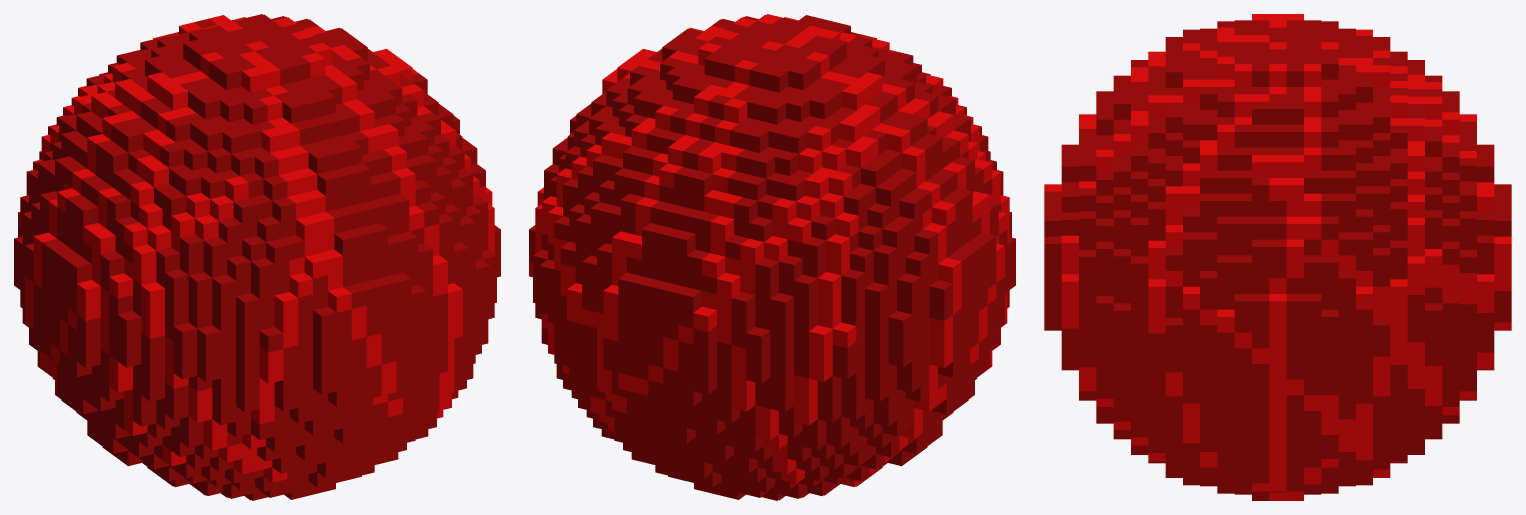
File: shpere.obj
3 views of the same model, side by side, from view 1: azimuth 30°, elevation 25°; view 2: azimuth 150°, elevation 25°; view 3: azimuth 270°, elevation 25° (orthographic).
Bounding box in the file's own units: 2.7 × 2.7 × 2.7.
1 material, 1 textured.
